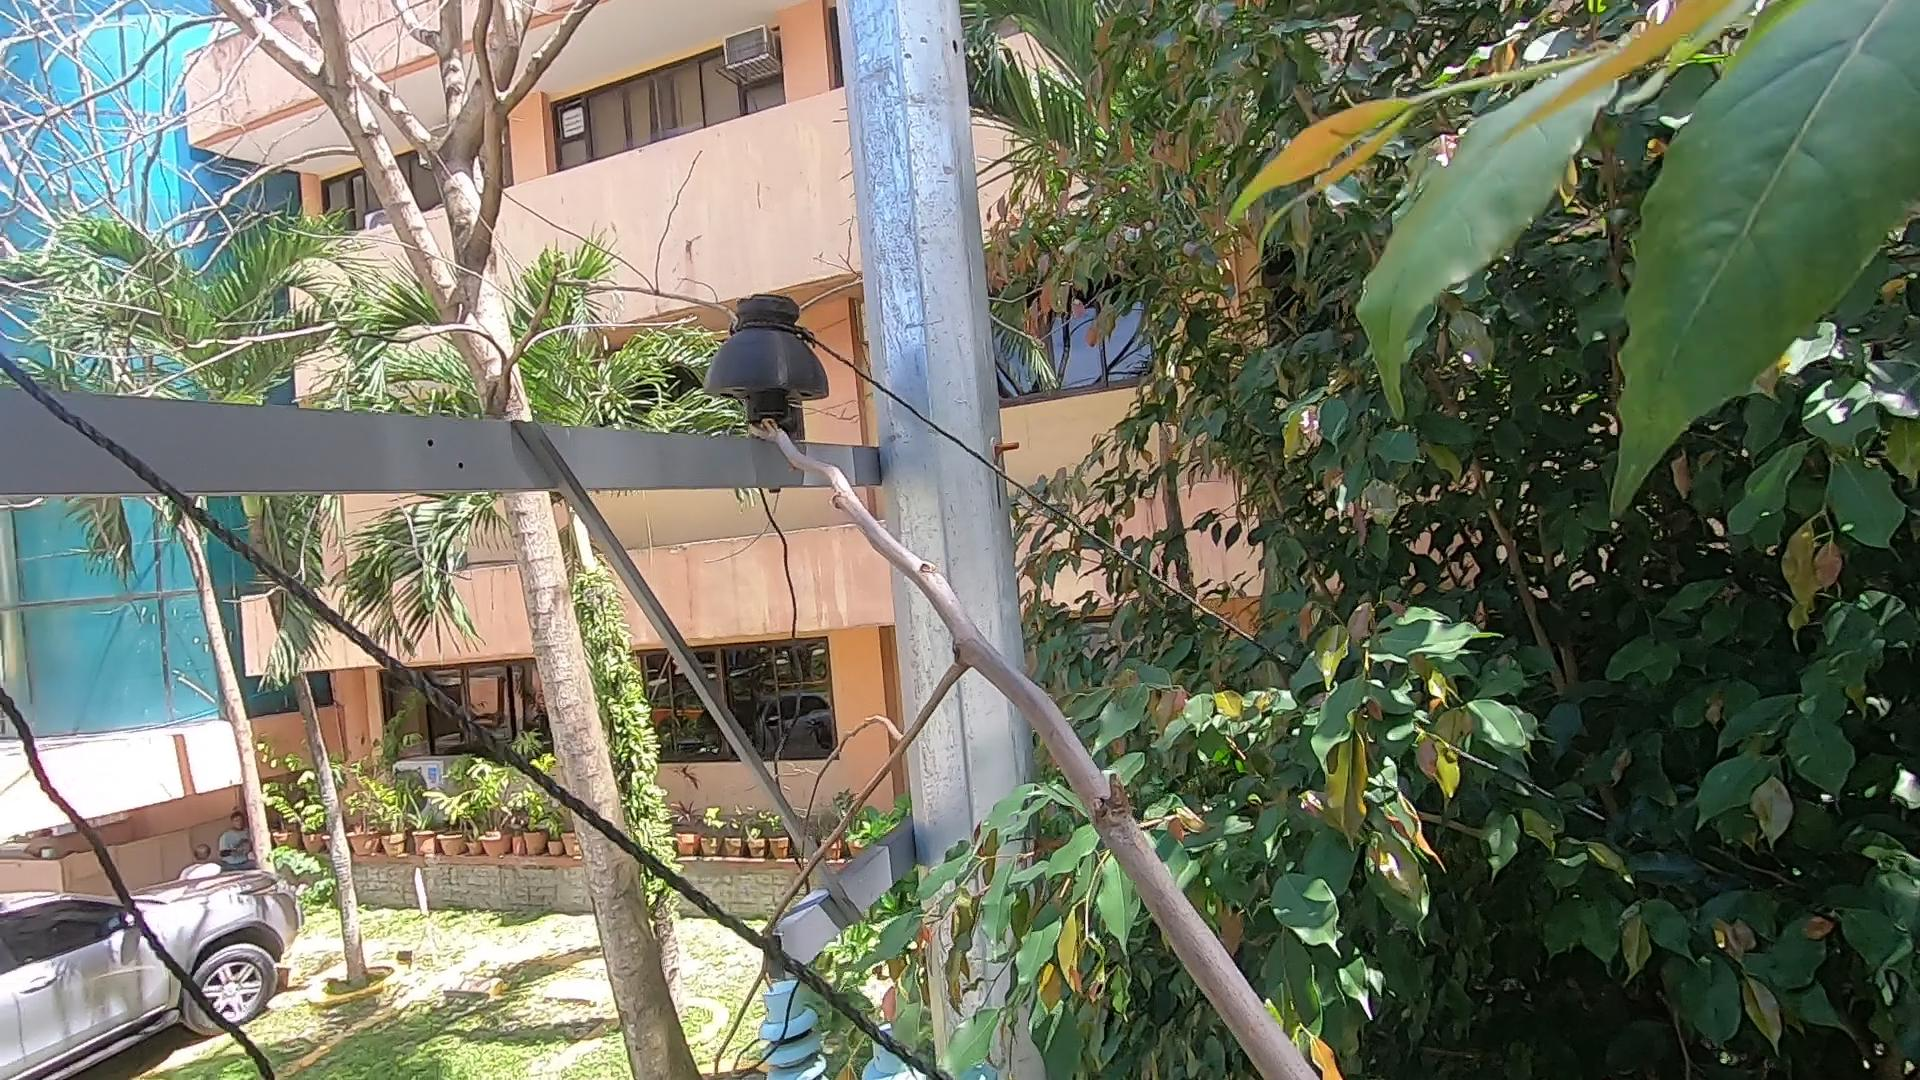branch with leaves: (880, 796, 1158, 1072)
tree branch: (662, 332, 1333, 1080)
